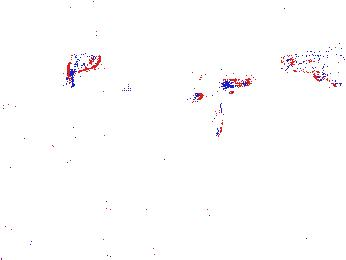glassfish: (200, 66, 225, 142)
redtail glassfish: (279, 45, 346, 73), (64, 51, 103, 82)
